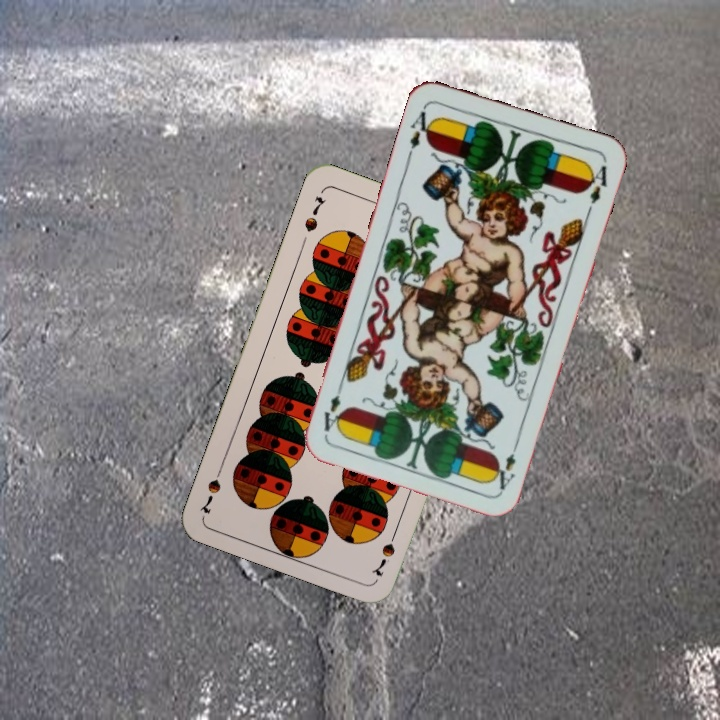EA: (403, 107, 437, 161), (491, 436, 522, 493)
S7: (367, 523, 401, 579), (300, 192, 328, 235)
